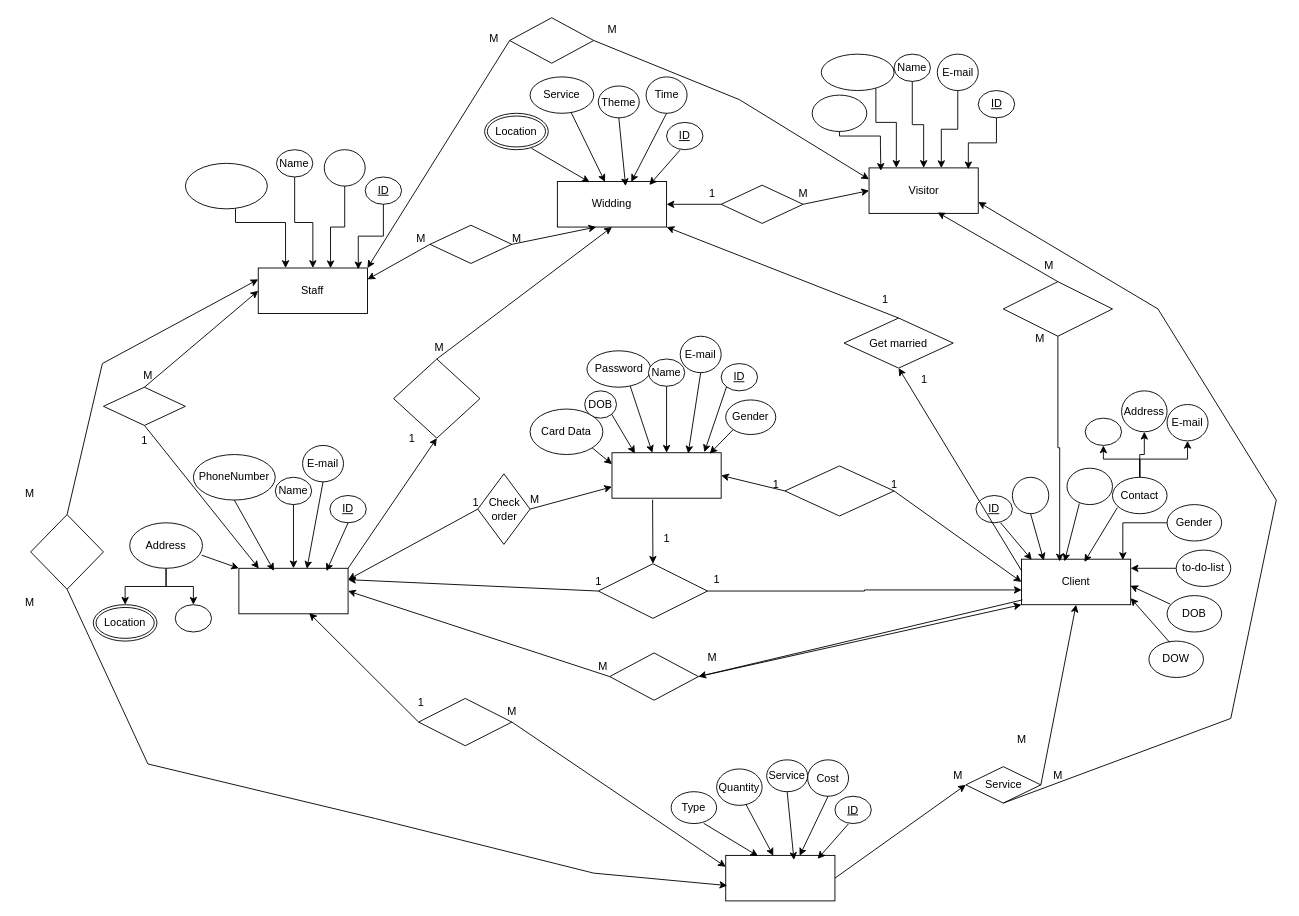
The diagram is 1299 pixels wide and 916 high, and some of its shapes have lost their labels. Each missing label, with the box of its shape:
Account: (611, 452, 721, 498)
Celebrate: (720, 184, 803, 223)
City: (174, 604, 212, 632)
ContactNumber: (185, 162, 267, 209)
Deal with: (597, 563, 708, 618)
Design preparation: (393, 358, 480, 438)
First Name: (1066, 467, 1112, 505)
Invitation: (811, 94, 867, 131)
Invite: (1002, 281, 1112, 336)
Last Name: (1011, 476, 1049, 514)
Owner: (238, 567, 348, 614)
Payment: (609, 652, 698, 700)
Preparing: (429, 224, 512, 263)
Regester: (784, 465, 894, 516)
responsible: (418, 698, 512, 746)
Role: (323, 149, 365, 186)
RSVP_states: (820, 53, 894, 91)
Service to: (509, 17, 594, 63)
Supervised: (103, 386, 185, 425)
Tel: (1084, 417, 1122, 445)
To Do List: (30, 514, 103, 589)
Wedding Service: (725, 854, 835, 901)
